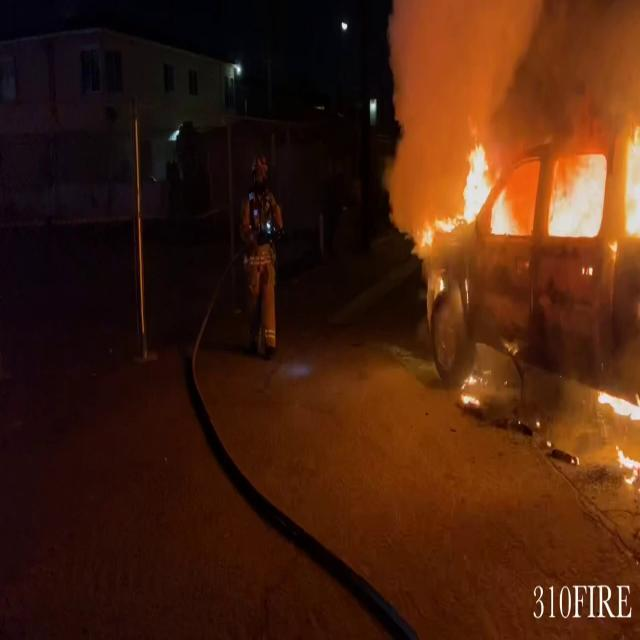Fire: (553, 118, 640, 244), (440, 137, 522, 238), (595, 376, 640, 486), (607, 439, 640, 485)
Smoke: (375, 0, 640, 180)
